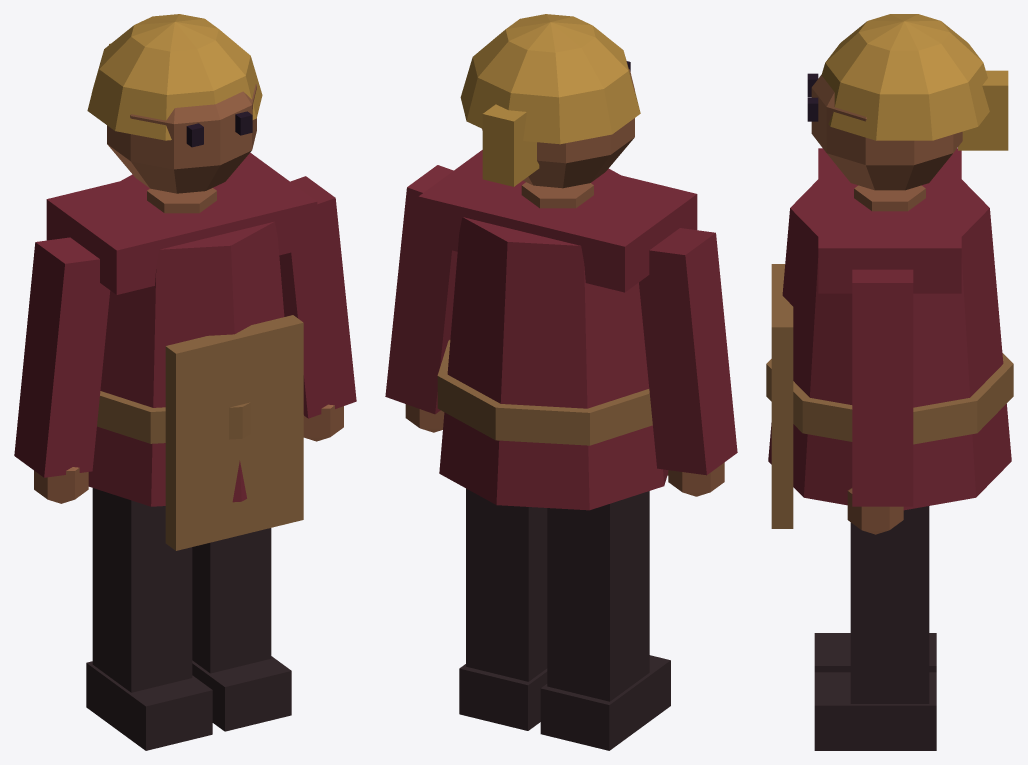
The model's file is person_sefa.gltf.
3 renders of one model, left to right at view 1: azimuth 30°, elevation 25°; view 2: azimuth 150°, elevation 25°; view 3: azimuth 270°, elevation 25°, orthographic. The views are drawn at different scales.
Visible parts, largest first — view 1: body, face; view 2: body, face; view 3: body, face.
Part boxes in pixels (<box>): body: <box>14,152,356,750</box>; face: <box>87,14,262,193</box>; body: <box>385,150,737,750</box>; face: <box>460,14,640,188</box>; body: <box>766,148,1013,750</box>; face: <box>807,14,1008,190</box>.
Size of the model in its own units: 1.03 by 2.13 by 0.69.
